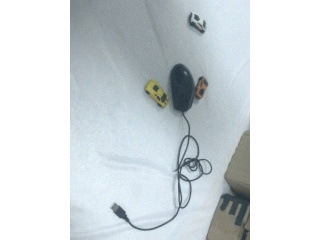box: (200, 192, 250, 239)
mouse: (169, 65, 196, 111)
toy_car: (144, 78, 169, 109), (187, 12, 207, 33), (195, 76, 209, 99)
